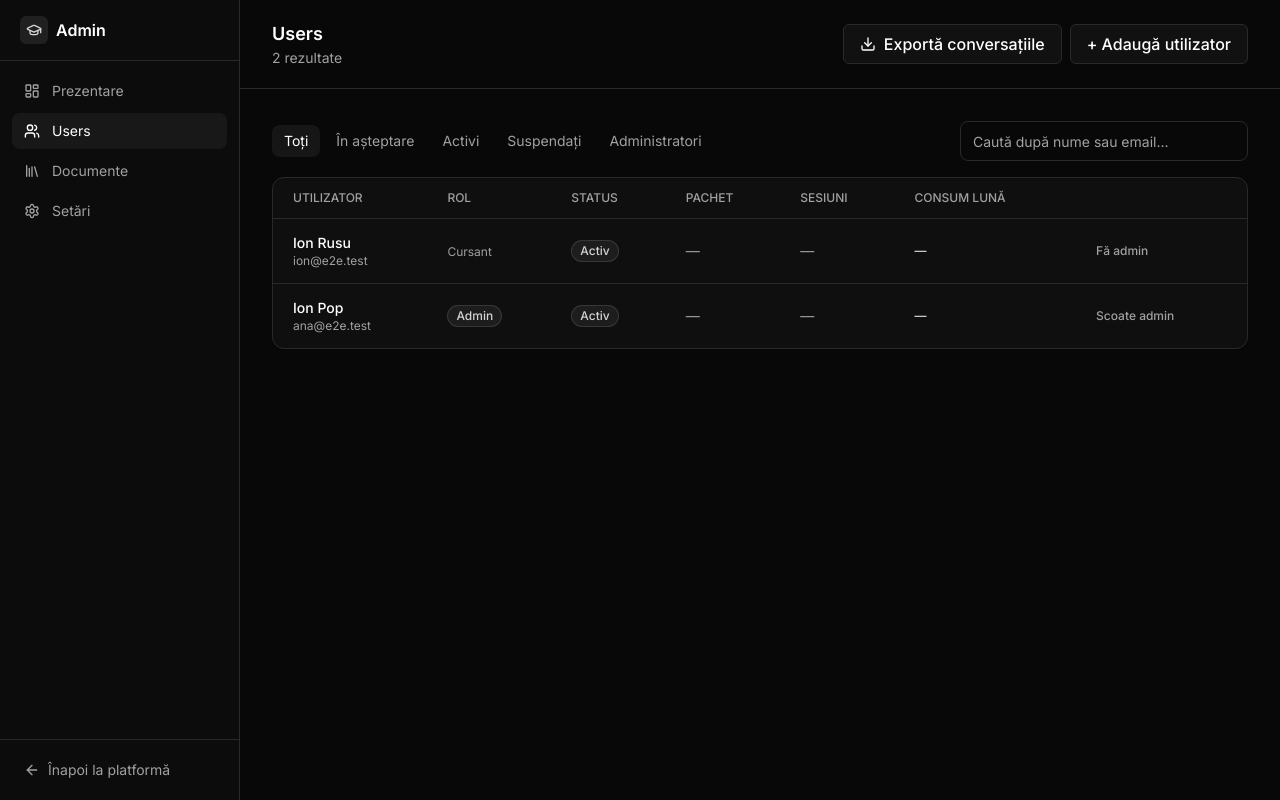
ADMIN Roles from the list › the Administratori filter lists only admins
Expected: the text "ion@e2e.test" is shown, [293,253,368,268]
Click the button "Administratori".
click(656, 141)  # box [597,125,714,157]
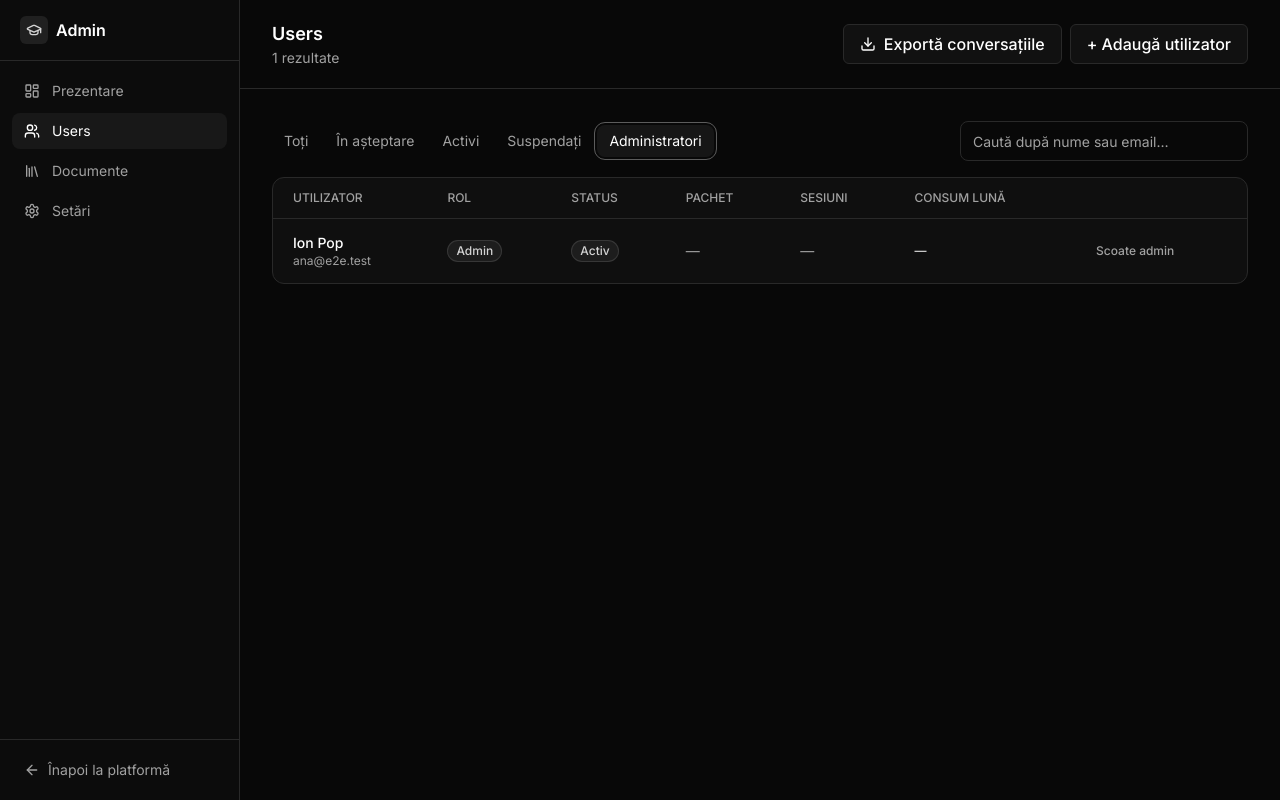
Expected: the text "ana@e2e.test" is shown, [293,253,371,268]
Expected: the link "ion@e2e.test" is gone
